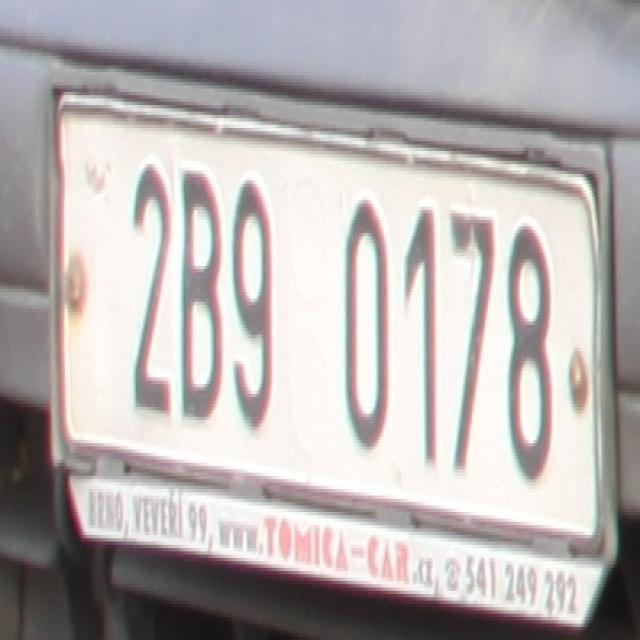0: (343, 194, 392, 446)
1: (407, 207, 440, 463)
2: (130, 158, 176, 414)
7: (452, 203, 494, 472)
8: (505, 216, 552, 476)
9: (228, 174, 274, 424)
B: (180, 161, 224, 417)
